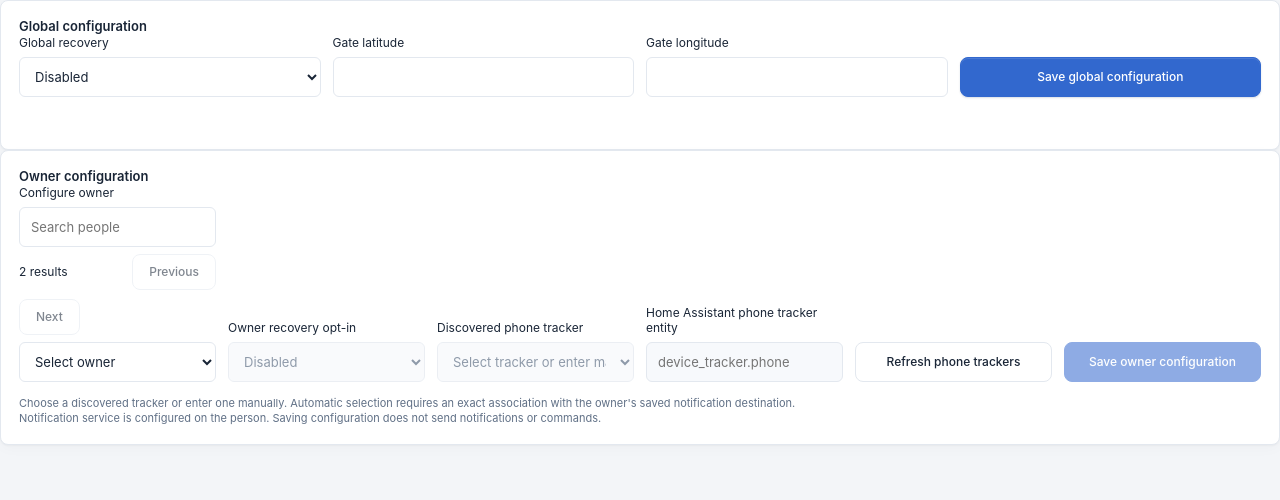
Test case: retains rejected owner drafts through directory refreshes
Select "Synthetic A" in the dropdown named "Configure owner" at (118, 362), box 19,342 -> 216,382
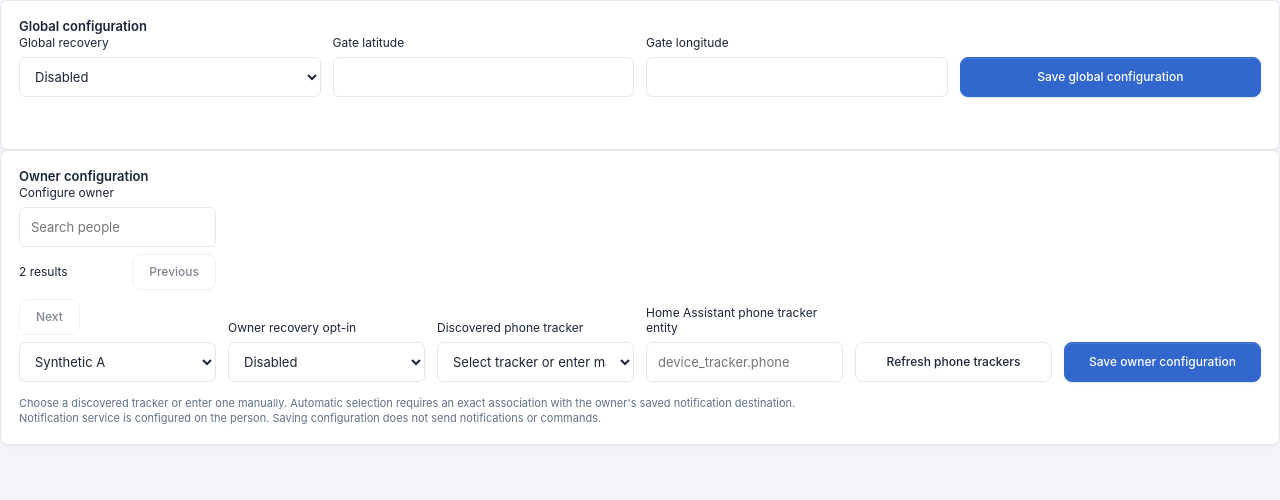
Select "Enabled" in the dropdown labelled "Owner recovery opt-in" at (326, 362), box 228,342 -> 425,382
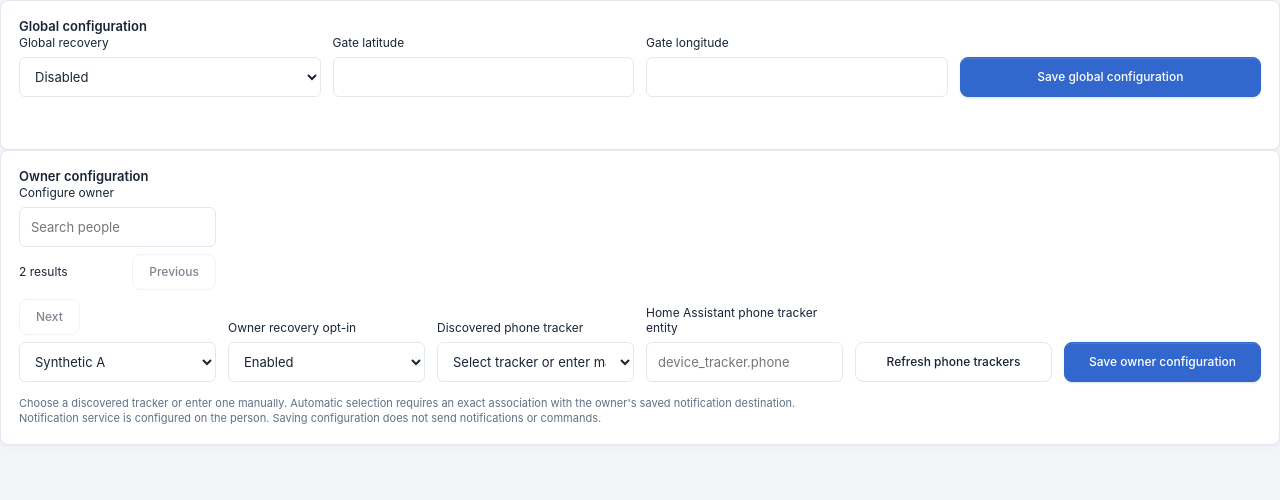
Type "device_tracker.first" into the field labelled "Home Assistant phone tracker entity" at (744, 362), box 646,342 -> 843,382
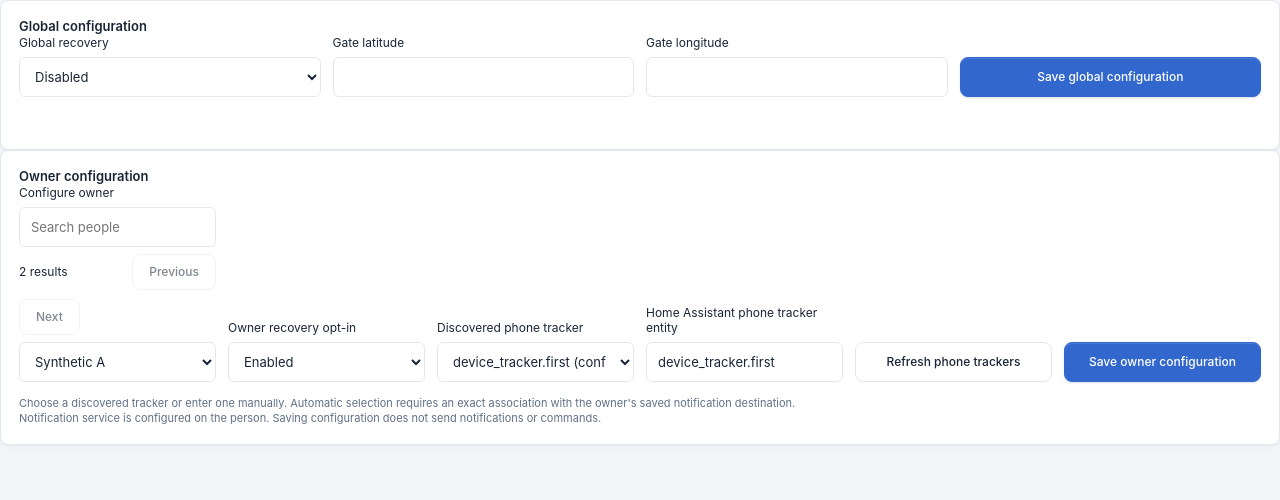
Click the button "Save owner configuration" at (1162, 362), box 1064,342 -> 1261,382
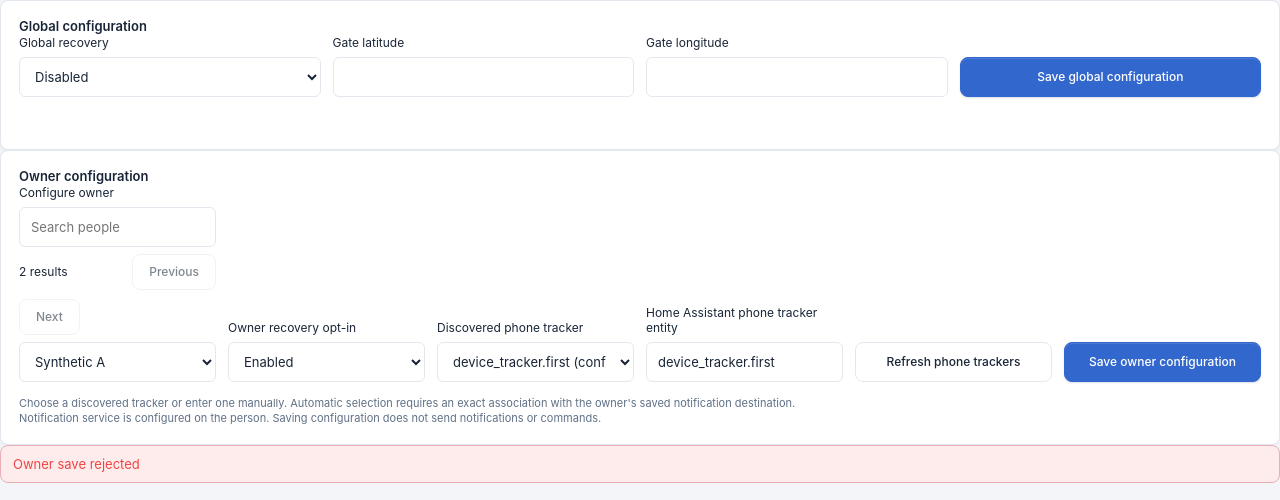
Expected: the message reads "Owner save rejected", 13,456 -> 140,472
